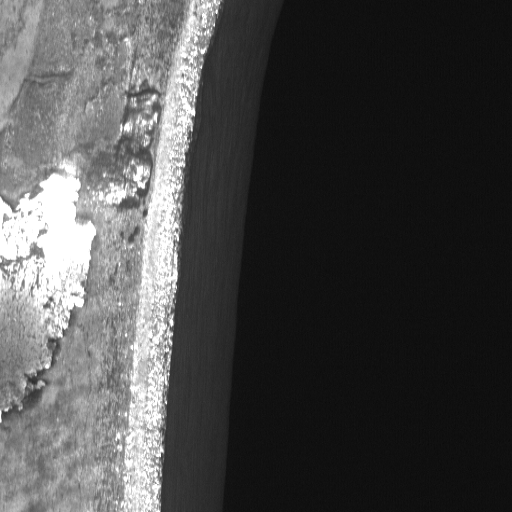qiaopi: (1, 165, 99, 428)
